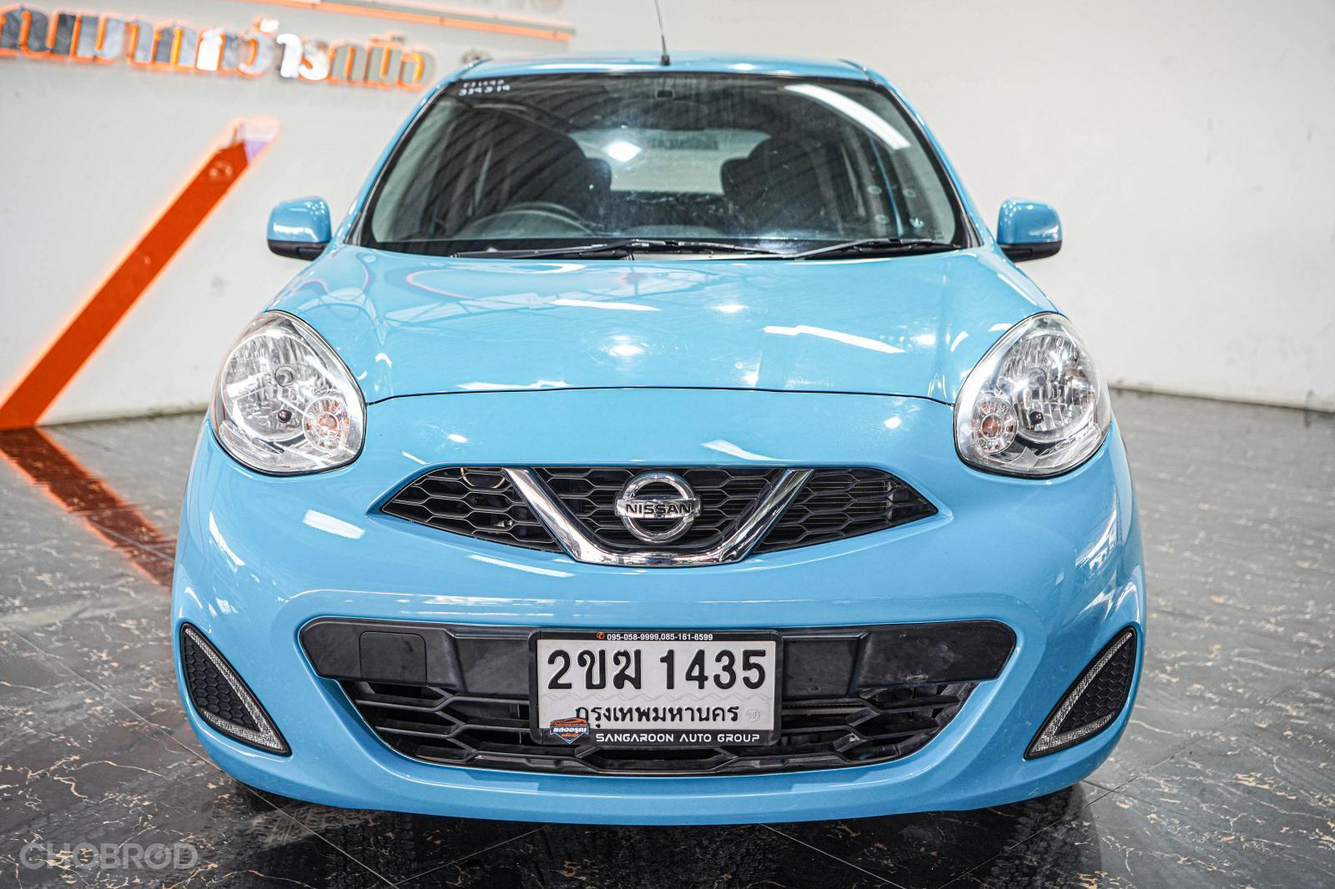license-plate: (518, 621, 792, 767)
